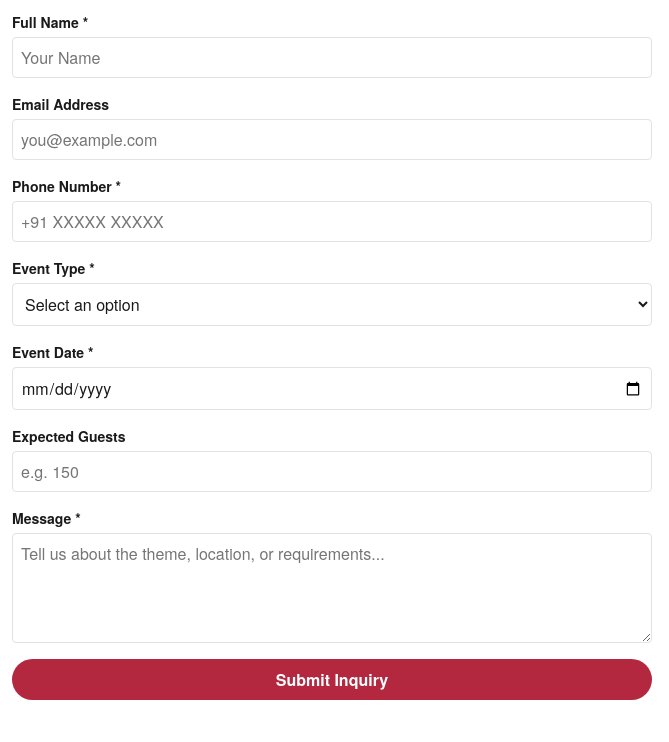
ContactForm › shows field errors returned by the Server Action without a page reload
Click the button "Submit Inquiry" at [332, 680], box [12,659,652,700]
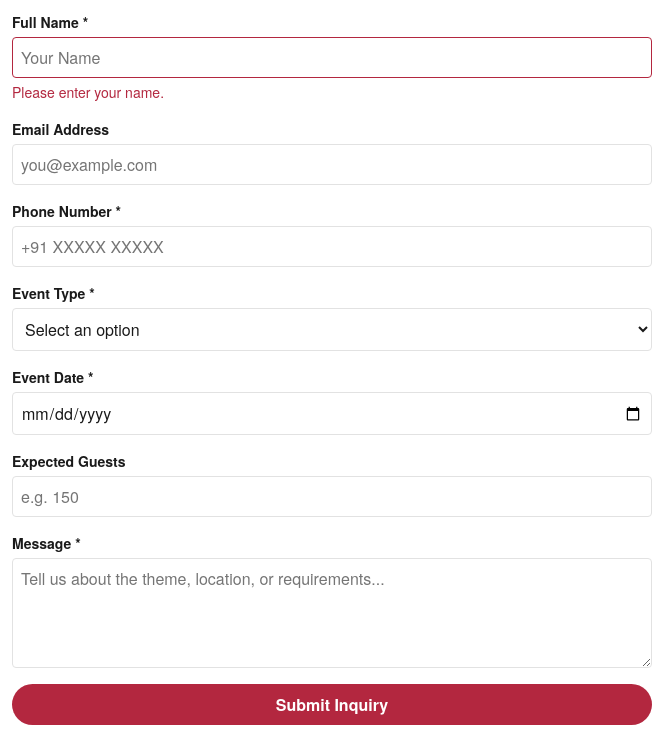
expect the text "Please enter your name." is shown: met, box [12,82,164,102]
